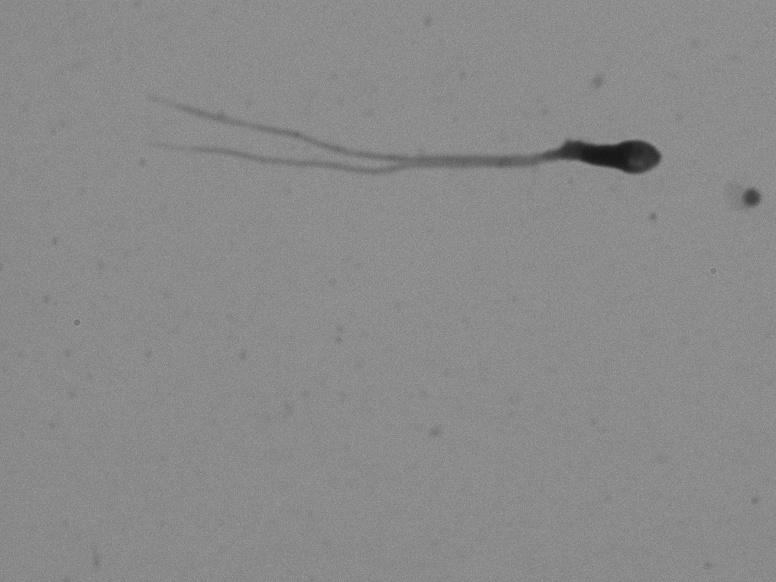Abnormal: (98, 92, 685, 203)
